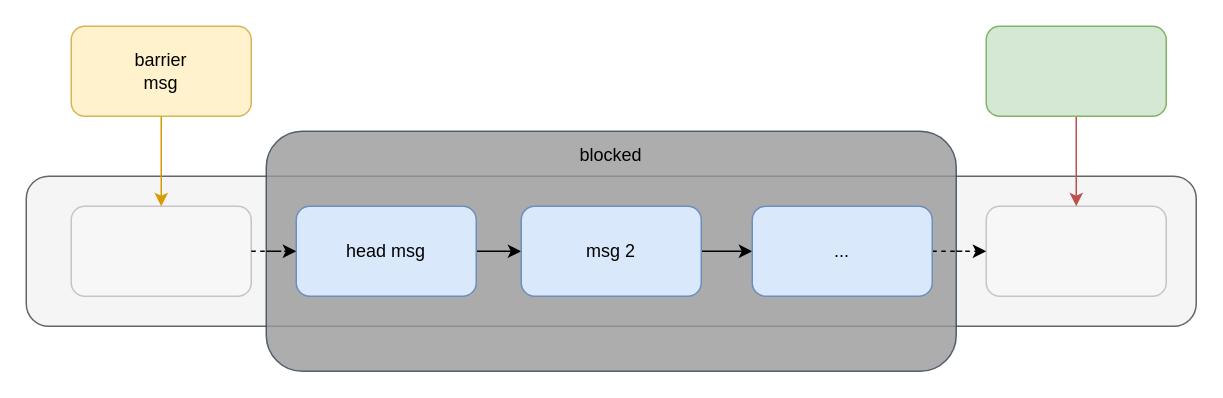
Image size: 1223x398. Some labels were removed from this diagram. Each missing label, with the box of its shape:
async msg: (985, 25, 1166, 116)
target null: (70, 205, 251, 296)
